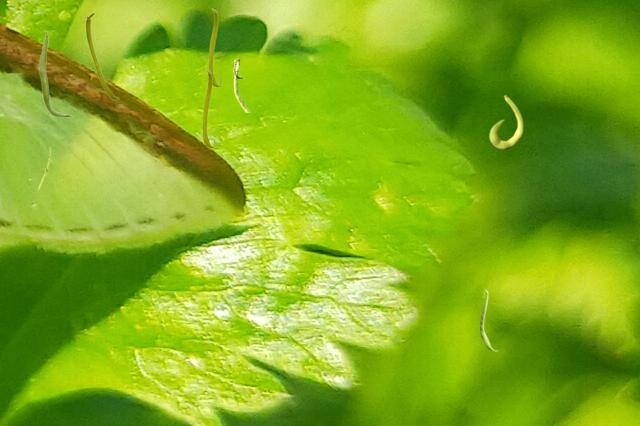french_bean: (85, 12, 118, 99), (38, 30, 71, 117), (489, 95, 522, 148), (480, 289, 498, 350), (208, 8, 220, 86), (202, 69, 214, 147), (233, 58, 249, 111), (37, 146, 50, 195)
